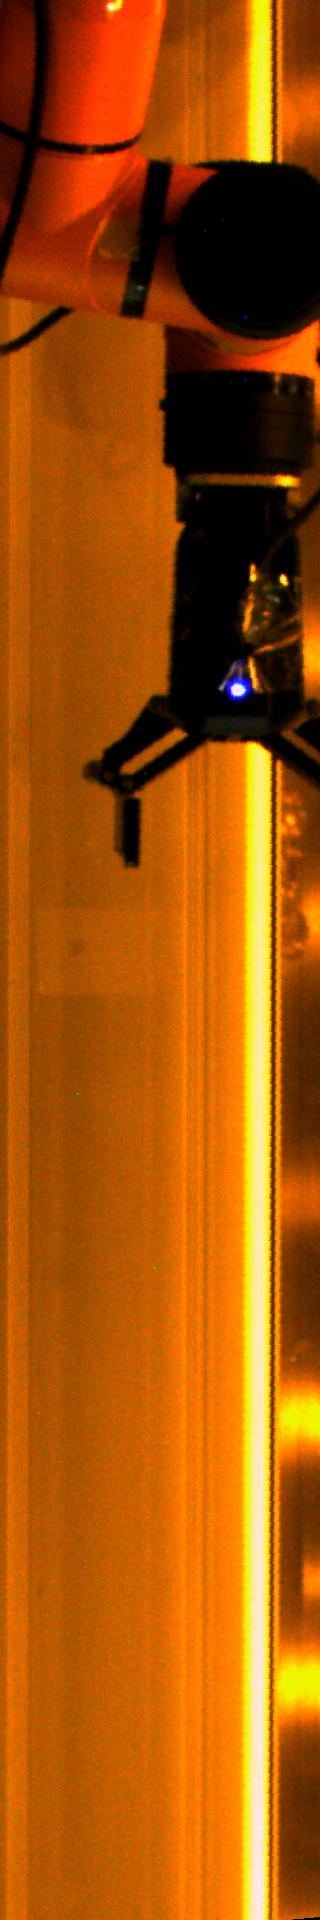keyPoint_1: (223, 673, 253, 704)
